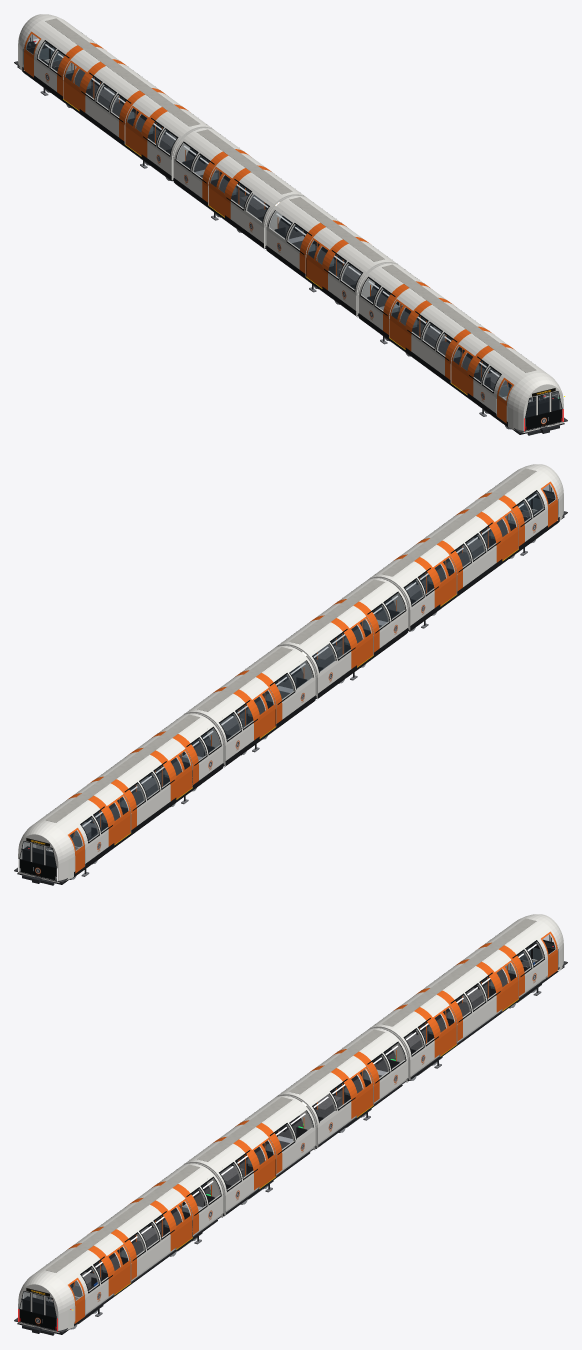
The model's file is train.glb.
3 renders of one model, top to bottom at view 1: azimuth 30°, elevation 25°; view 2: azimuth 150°, elevation 25°; view 3: azimuth 330°, elevation 25°, orthographic.
Visible parts, largest first — view 1: car_3_exterior, car_0_exterior, car_1_exterior, car_2_exterior, car_3_glass, car_0_saloon, car_3_saloon, car_0_glass, car_1_saloon, car_2_saloon, car_1_glass, car_2_glass (+1 smaller); view 2: car_0_exterior, car_3_exterior, car_2_exterior, car_1_exterior, car_0_glass, car_3_saloon, car_0_saloon, car_3_glass, car_2_saloon, car_1_saloon, car_1_glass, car_2_glass (+1 smaller); view 3: car_3_exterior, car_0_exterior, car_1_exterior, car_2_exterior, car_0_saloon, car_3_saloon, car_1_saloon, car_2_saloon, car_3_glass, car_3_cab.
Boxes of the visible parts, left/top/right/bottom form: car_3_exterior: left=358, top=263, right=564, bottom=435; car_0_exterior: left=17, top=14, right=214, bottom=181; car_1_exterior: left=174, top=128, right=306, bottom=248; car_2_exterior: left=266, top=196, right=399, bottom=317; car_3_glass: left=362, top=279, right=561, bottom=417; car_0_saloon: left=41, top=44, right=209, bottom=179; car_3_saloon: left=367, top=280, right=545, bottom=415; car_0_glass: left=29, top=35, right=176, bottom=154; car_1_saloon: left=182, top=145, right=304, bottom=247; car_2_saloon: left=274, top=213, right=397, bottom=315; car_1_glass: left=177, top=144, right=268, bottom=221; car_2_glass: left=269, top=211, right=361, bottom=289; car_0_exterior: left=17, top=713, right=223, bottom=885; car_3_exterior: left=367, top=464, right=564, bottom=631; car_2_exterior: left=275, top=578, right=407, bottom=698; car_1_exterior: left=182, top=646, right=315, bottom=767; car_0_glass: left=20, top=729, right=219, bottom=867; car_3_saloon: left=372, top=494, right=540, bottom=629; car_0_saloon: left=36, top=730, right=214, bottom=865; car_3_glass: left=405, top=485, right=552, bottom=604; car_2_saloon: left=277, top=595, right=399, bottom=697; car_1_saloon: left=185, top=652, right=307, bottom=765; car_1_glass: left=220, top=661, right=312, bottom=739; car_2_glass: left=313, top=594, right=404, bottom=671; car_3_exterior: left=17, top=1163, right=223, bottom=1335; car_0_exterior: left=367, top=914, right=564, bottom=1081; car_1_exterior: left=275, top=1028, right=407, bottom=1148; car_2_exterior: left=182, top=1096, right=315, bottom=1216; car_0_saloon: left=372, top=944, right=545, bottom=1079; car_3_saloon: left=36, top=1180, right=221, bottom=1316; car_1_saloon: left=277, top=1045, right=405, bottom=1147; car_2_saloon: left=184, top=1113, right=313, bottom=1215; car_3_glass: left=20, top=1284, right=82, bottom=1317; car_3_cab: left=14, top=1277, right=85, bottom=1332.
Bounding box in the file's own units: 2.43 × 2.68 × 39.67.
34 materials, 9 textured.
